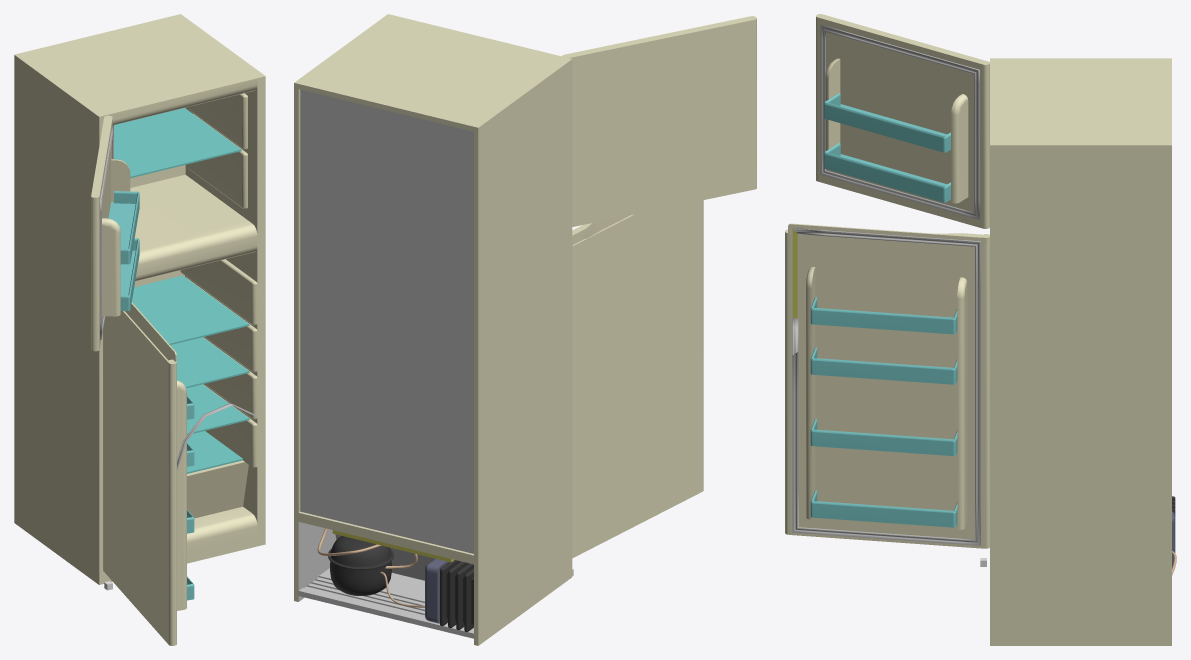
3 renders of one model, left to right at view 1: azimuth 30°, elevation 25°; view 2: azimuth 150°, elevation 25°; view 3: azimuth 270°, elevation 25°, orthographic. The views are drawn at different scales.
Parts seen in each view (by area): view 1: Fridge.006, freezertray.001, refrigeratortraylower.005, Fridge.007, refrigeratortraylower.003, refrigeratortraylower.001, refrigeratortraycrisper.001, Fridge.002; view 2: Fridge.006, Fridge.004, Fridge.003, Fridge.008; view 3: Fridge.006, Fridge.007, Fridge.002.
Boxes of the visible parts, x1,y1,x2,y2 form: Fridge.006: (14, 14, 265, 645); freezertray.001: (114, 108, 241, 178); refrigeratortraylower.005: (132, 275, 249, 344); Fridge.007: (108, 191, 194, 600); refrigeratortraylower.003: (170, 337, 249, 388); refrigeratortraylower.001: (186, 384, 249, 434); refrigeratortraycrisper.001: (187, 431, 242, 473); Fridge.002: (100, 125, 256, 470); Fridge.006: (294, 14, 756, 645); Fridge.004: (298, 89, 473, 638); Fridge.003: (328, 536, 473, 631); Fridge.008: (425, 558, 448, 623); Fridge.006: (785, 14, 1171, 645); Fridge.007: (810, 93, 957, 527); Fridge.002: (792, 24, 980, 545).
Bounding box in the file's own units: 9127 × 16208 × 11423.
